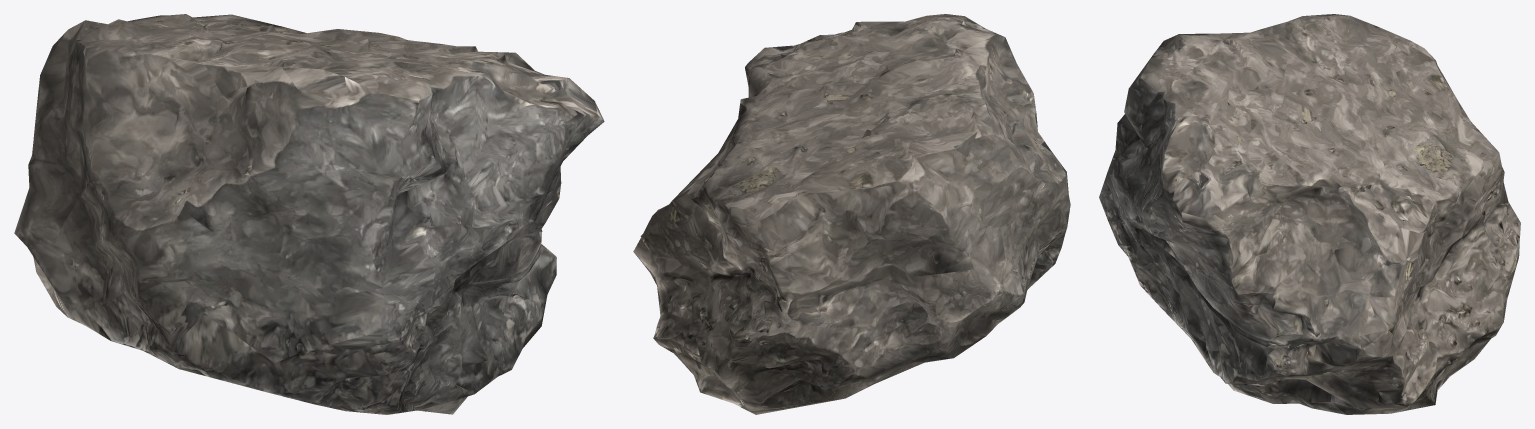
File: boulder_e_lod1.glb
3 views of the same model, side by side, from view 1: azimuth 30°, elevation 25°; view 2: azimuth 150°, elevation 25°; view 3: azimuth 270°, elevation 25° (orthographic). The views are drawn at different scales.
Visible parts, largest first — view 1: boulder_e_lod1; view 2: boulder_e_lod1; view 3: boulder_e_lod1.
Boxes of the visible parts, x1,y1,x2,y2 form: boulder_e_lod1: [14, 14, 604, 414]; boulder_e_lod1: [633, 14, 1070, 414]; boulder_e_lod1: [1099, 14, 1520, 414].
Bounding box in the file's own units: 4.98 × 3.96 × 5.11.
1 material, 1 textured.
